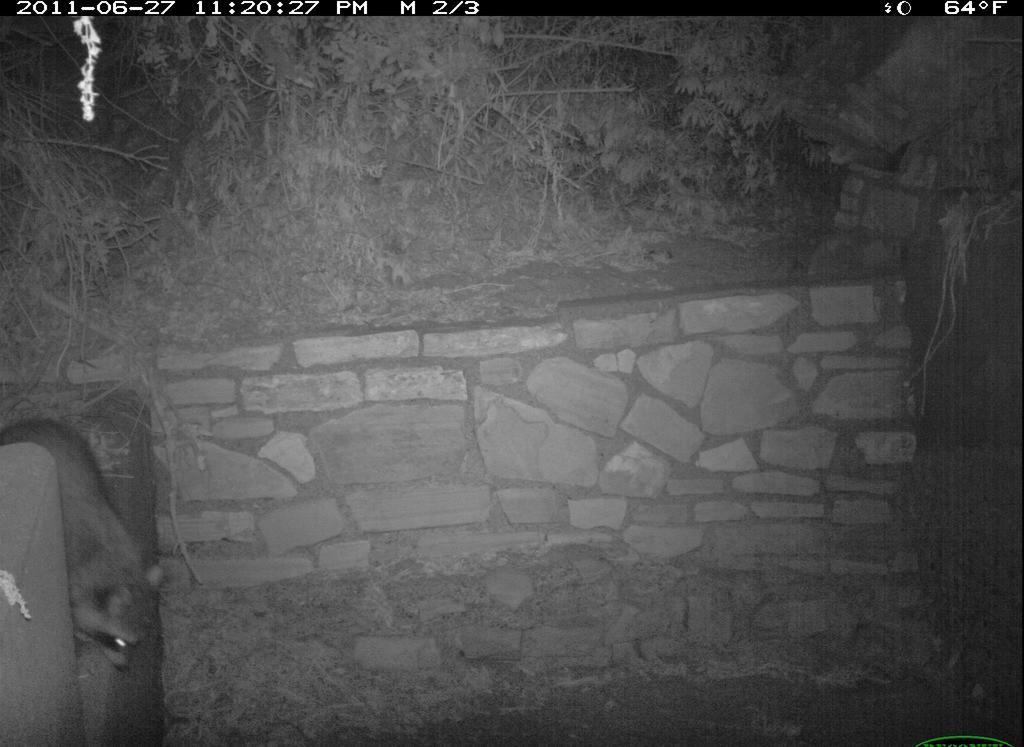raccoon: (4, 414, 173, 679)
